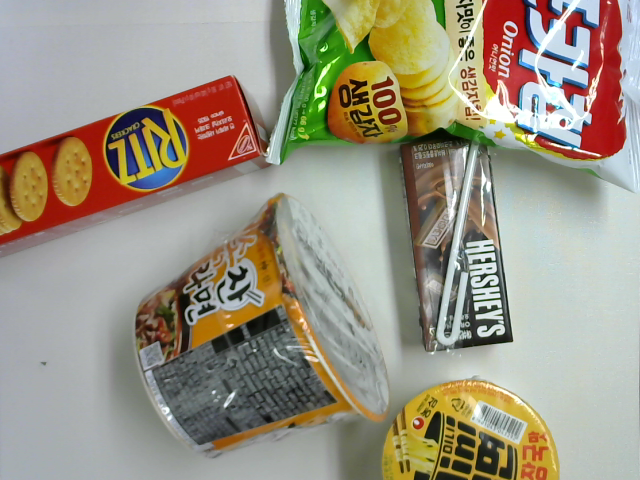Hejangchan: (129, 184, 396, 463)
Hejangmini: (380, 375, 559, 480)
Hush_Choco_Drink: (394, 131, 517, 362)
Pocachip_Onion: (259, 1, 640, 199)
Ritz_Cracker: (1, 72, 271, 255)
